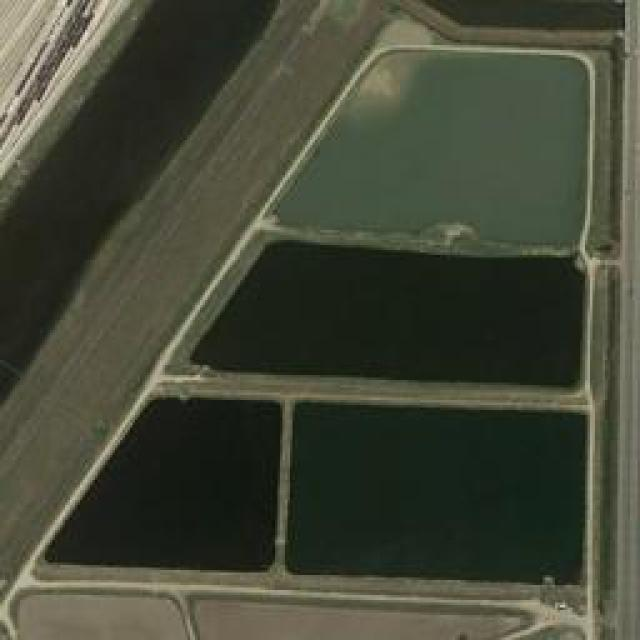Agriculture: (2, 0, 640, 638)
Lake: (230, 20, 610, 258)
